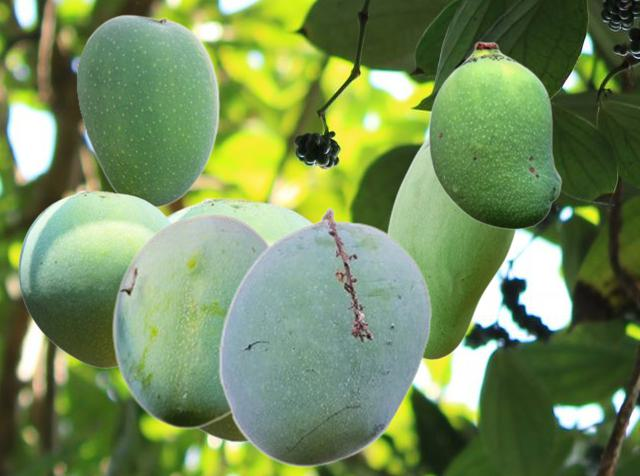green_mango: (218, 207, 431, 466), (166, 196, 314, 441), (111, 212, 270, 428), (386, 137, 516, 359), (76, 14, 219, 207), (18, 189, 170, 367), (428, 41, 561, 229)
